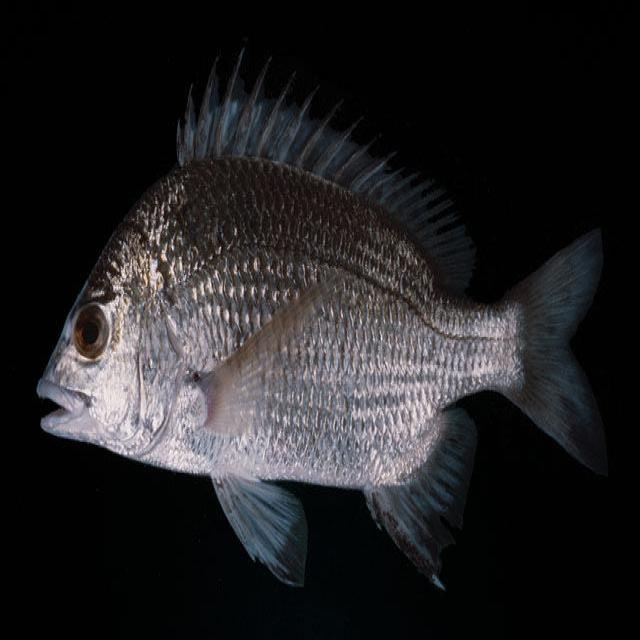ikan: (35, 41, 609, 593)
